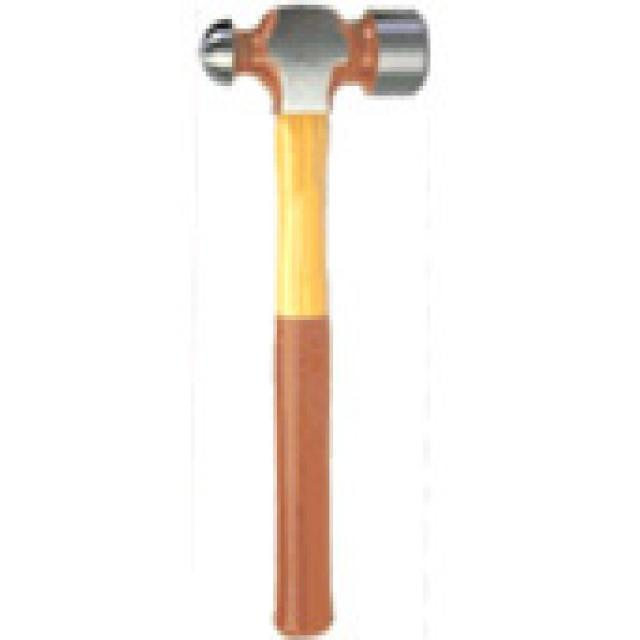hammer: (191, 0, 437, 640)
